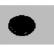correct: (7, 13, 37, 39)
